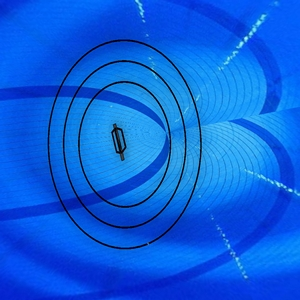circle: (43, 36, 204, 257)
submarine: (106, 121, 135, 162)
